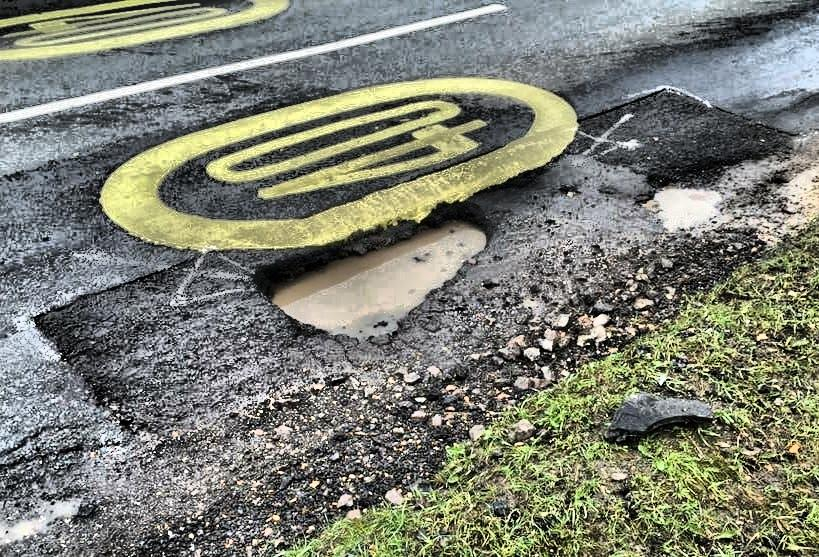pothole: (251, 203, 507, 343), (648, 177, 722, 235)
